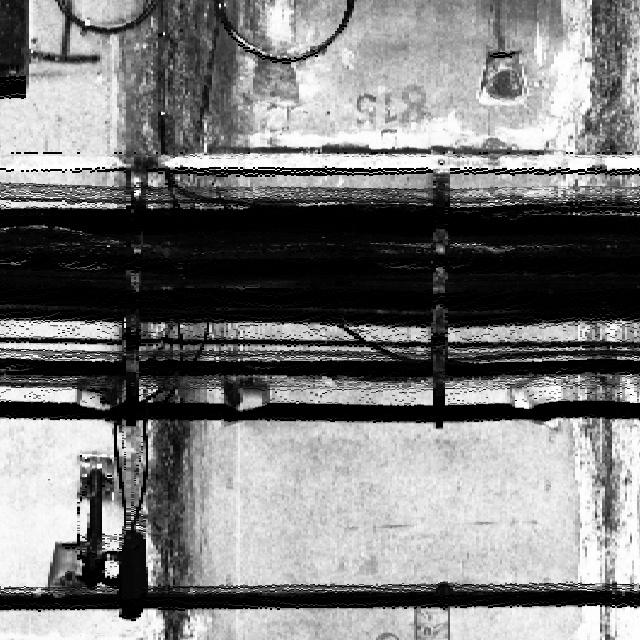leakage: (111, 0, 251, 196), (564, 315, 639, 638), (539, 0, 639, 197), (134, 333, 195, 639)
